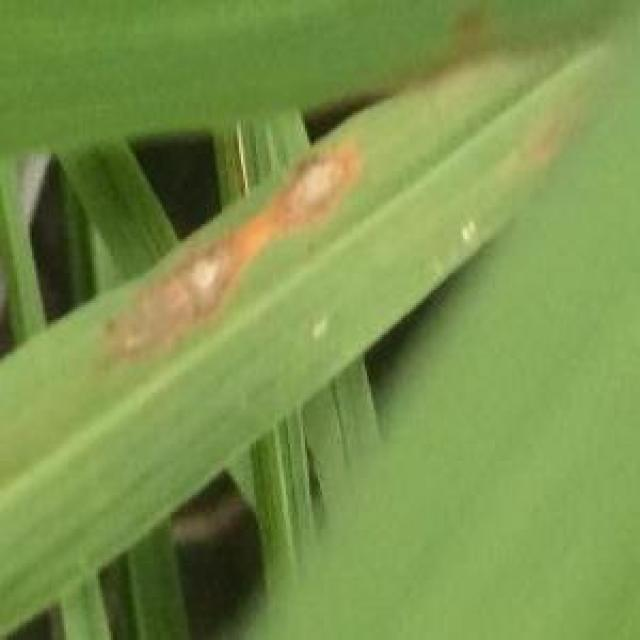Brown_Spot: (106, 225, 260, 359), (261, 148, 361, 235)
